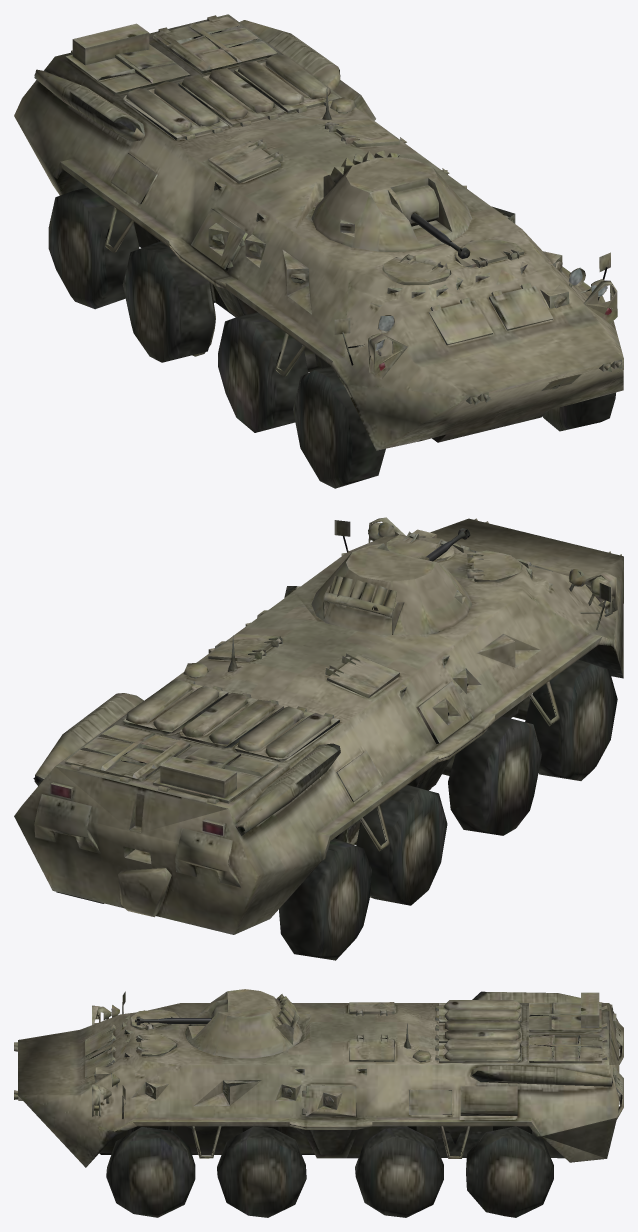
File: realistic-by.76880fe3d732.mech-inf.glb
3 views of the same model, one above another, from view 1: azimuth 30°, elevation 25°; view 2: azimuth 150°, elevation 25°; view 3: azimuth 270°, elevation 25° (orthographic). The views are drawn at different scales.
Visible parts, largest first — view 1: mech-inf; view 2: mech-inf; view 3: mech-inf.
Part boxes in pixels (x1=…): mech-inf: x1=14, y1=14, x2=623, y2=488; mech-inf: x1=14, y1=517, x2=623, y2=960; mech-inf: x1=14, y1=989, x2=623, y2=1217.
Bounding box in the file's own units: 2.96 × 2.37 × 7.7.
1 material, 1 textured.
